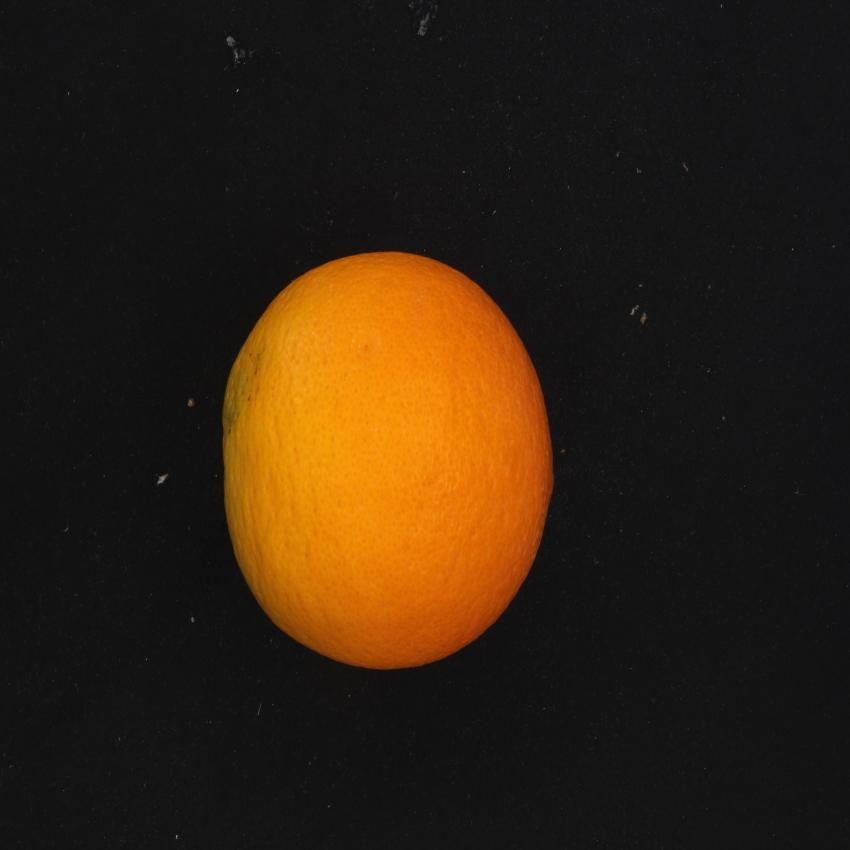Buen estado: (212, 245, 572, 692)
